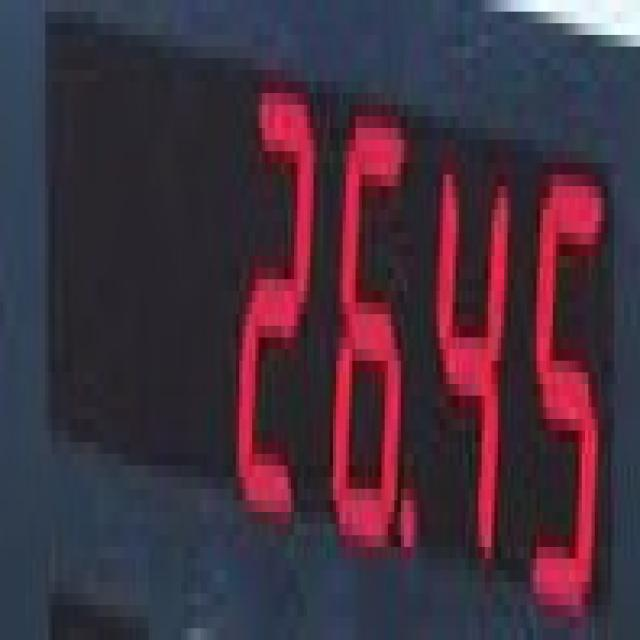.: (401, 479, 420, 555)
2: (236, 74, 315, 524)
4: (427, 157, 512, 560)
5: (529, 161, 612, 622)
6: (327, 106, 408, 558)
